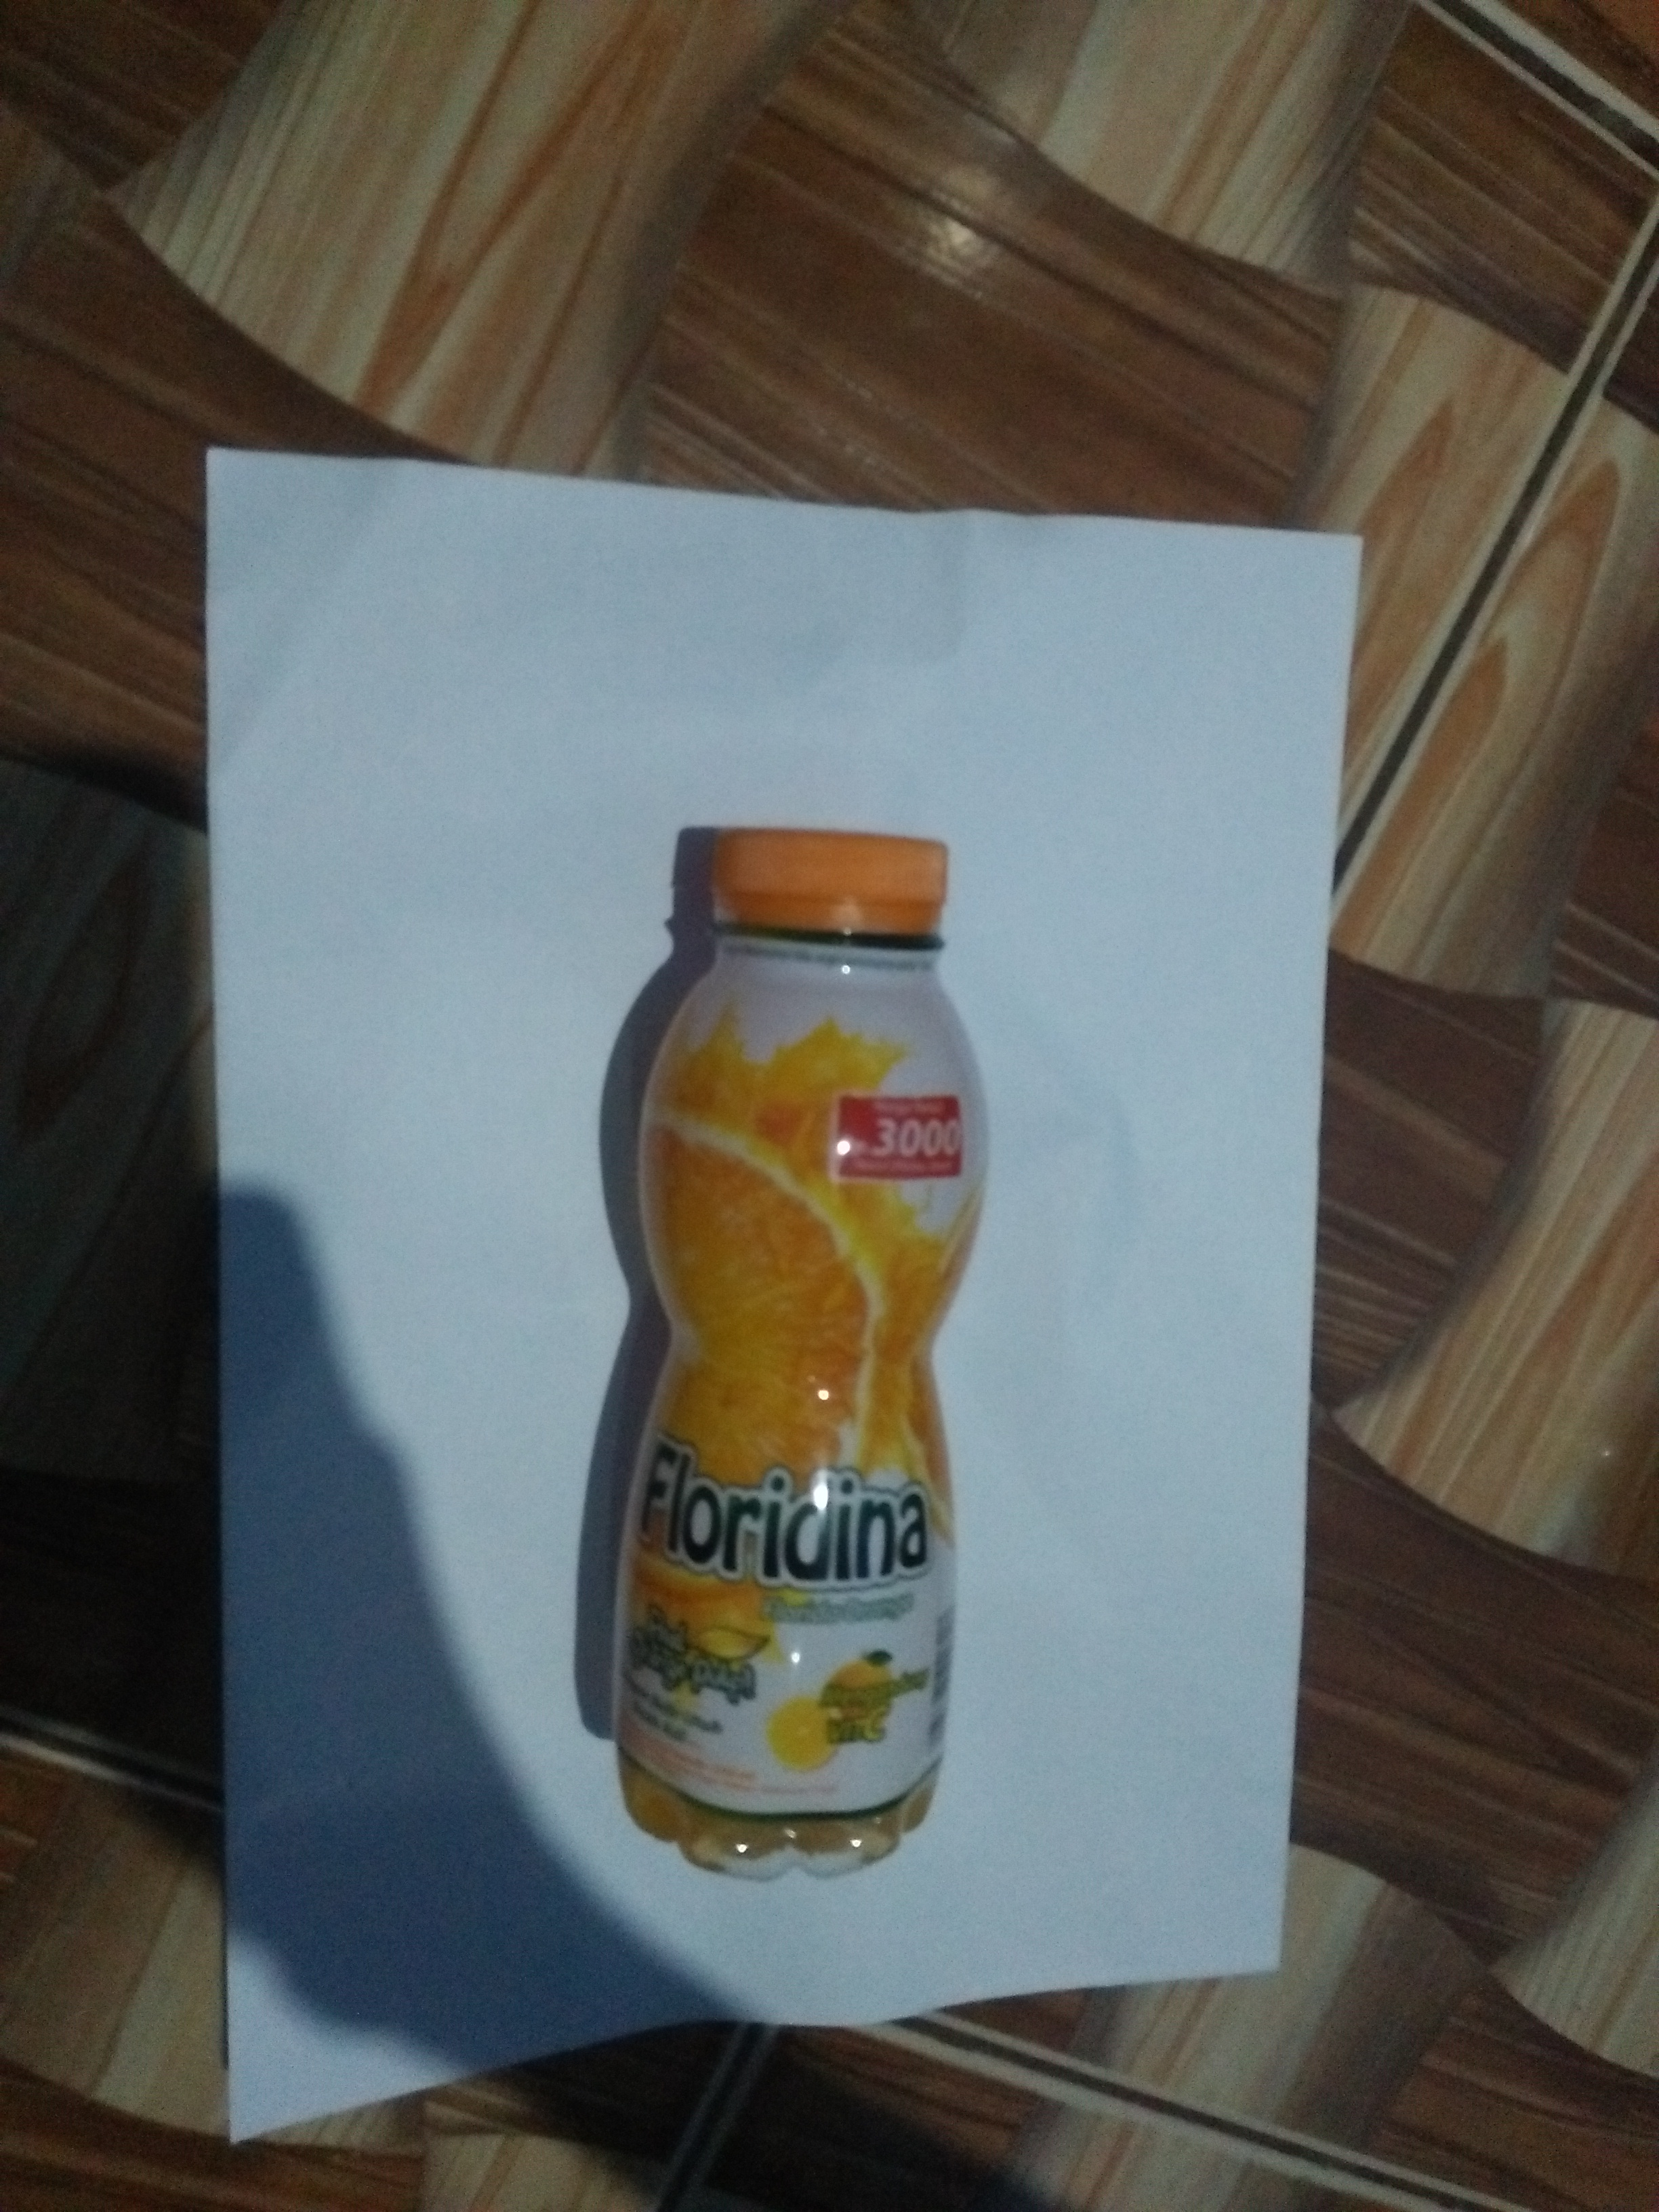Floridina: (575, 827, 1028, 1890)
